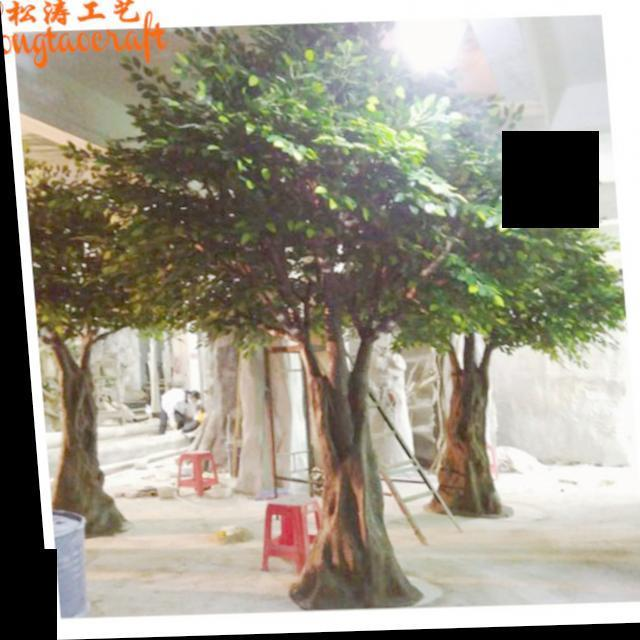tree: (57, 21, 639, 614), (390, 208, 634, 526), (19, 164, 179, 540)
